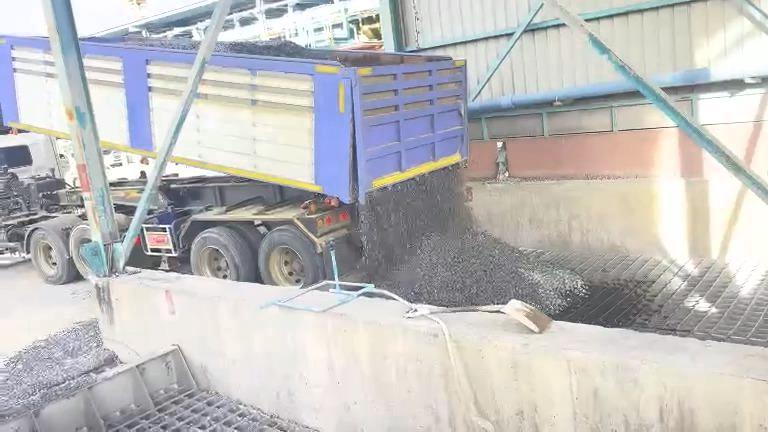gravel: (359, 169, 586, 312), (1, 319, 119, 419), (215, 39, 341, 60), (118, 38, 200, 51)
